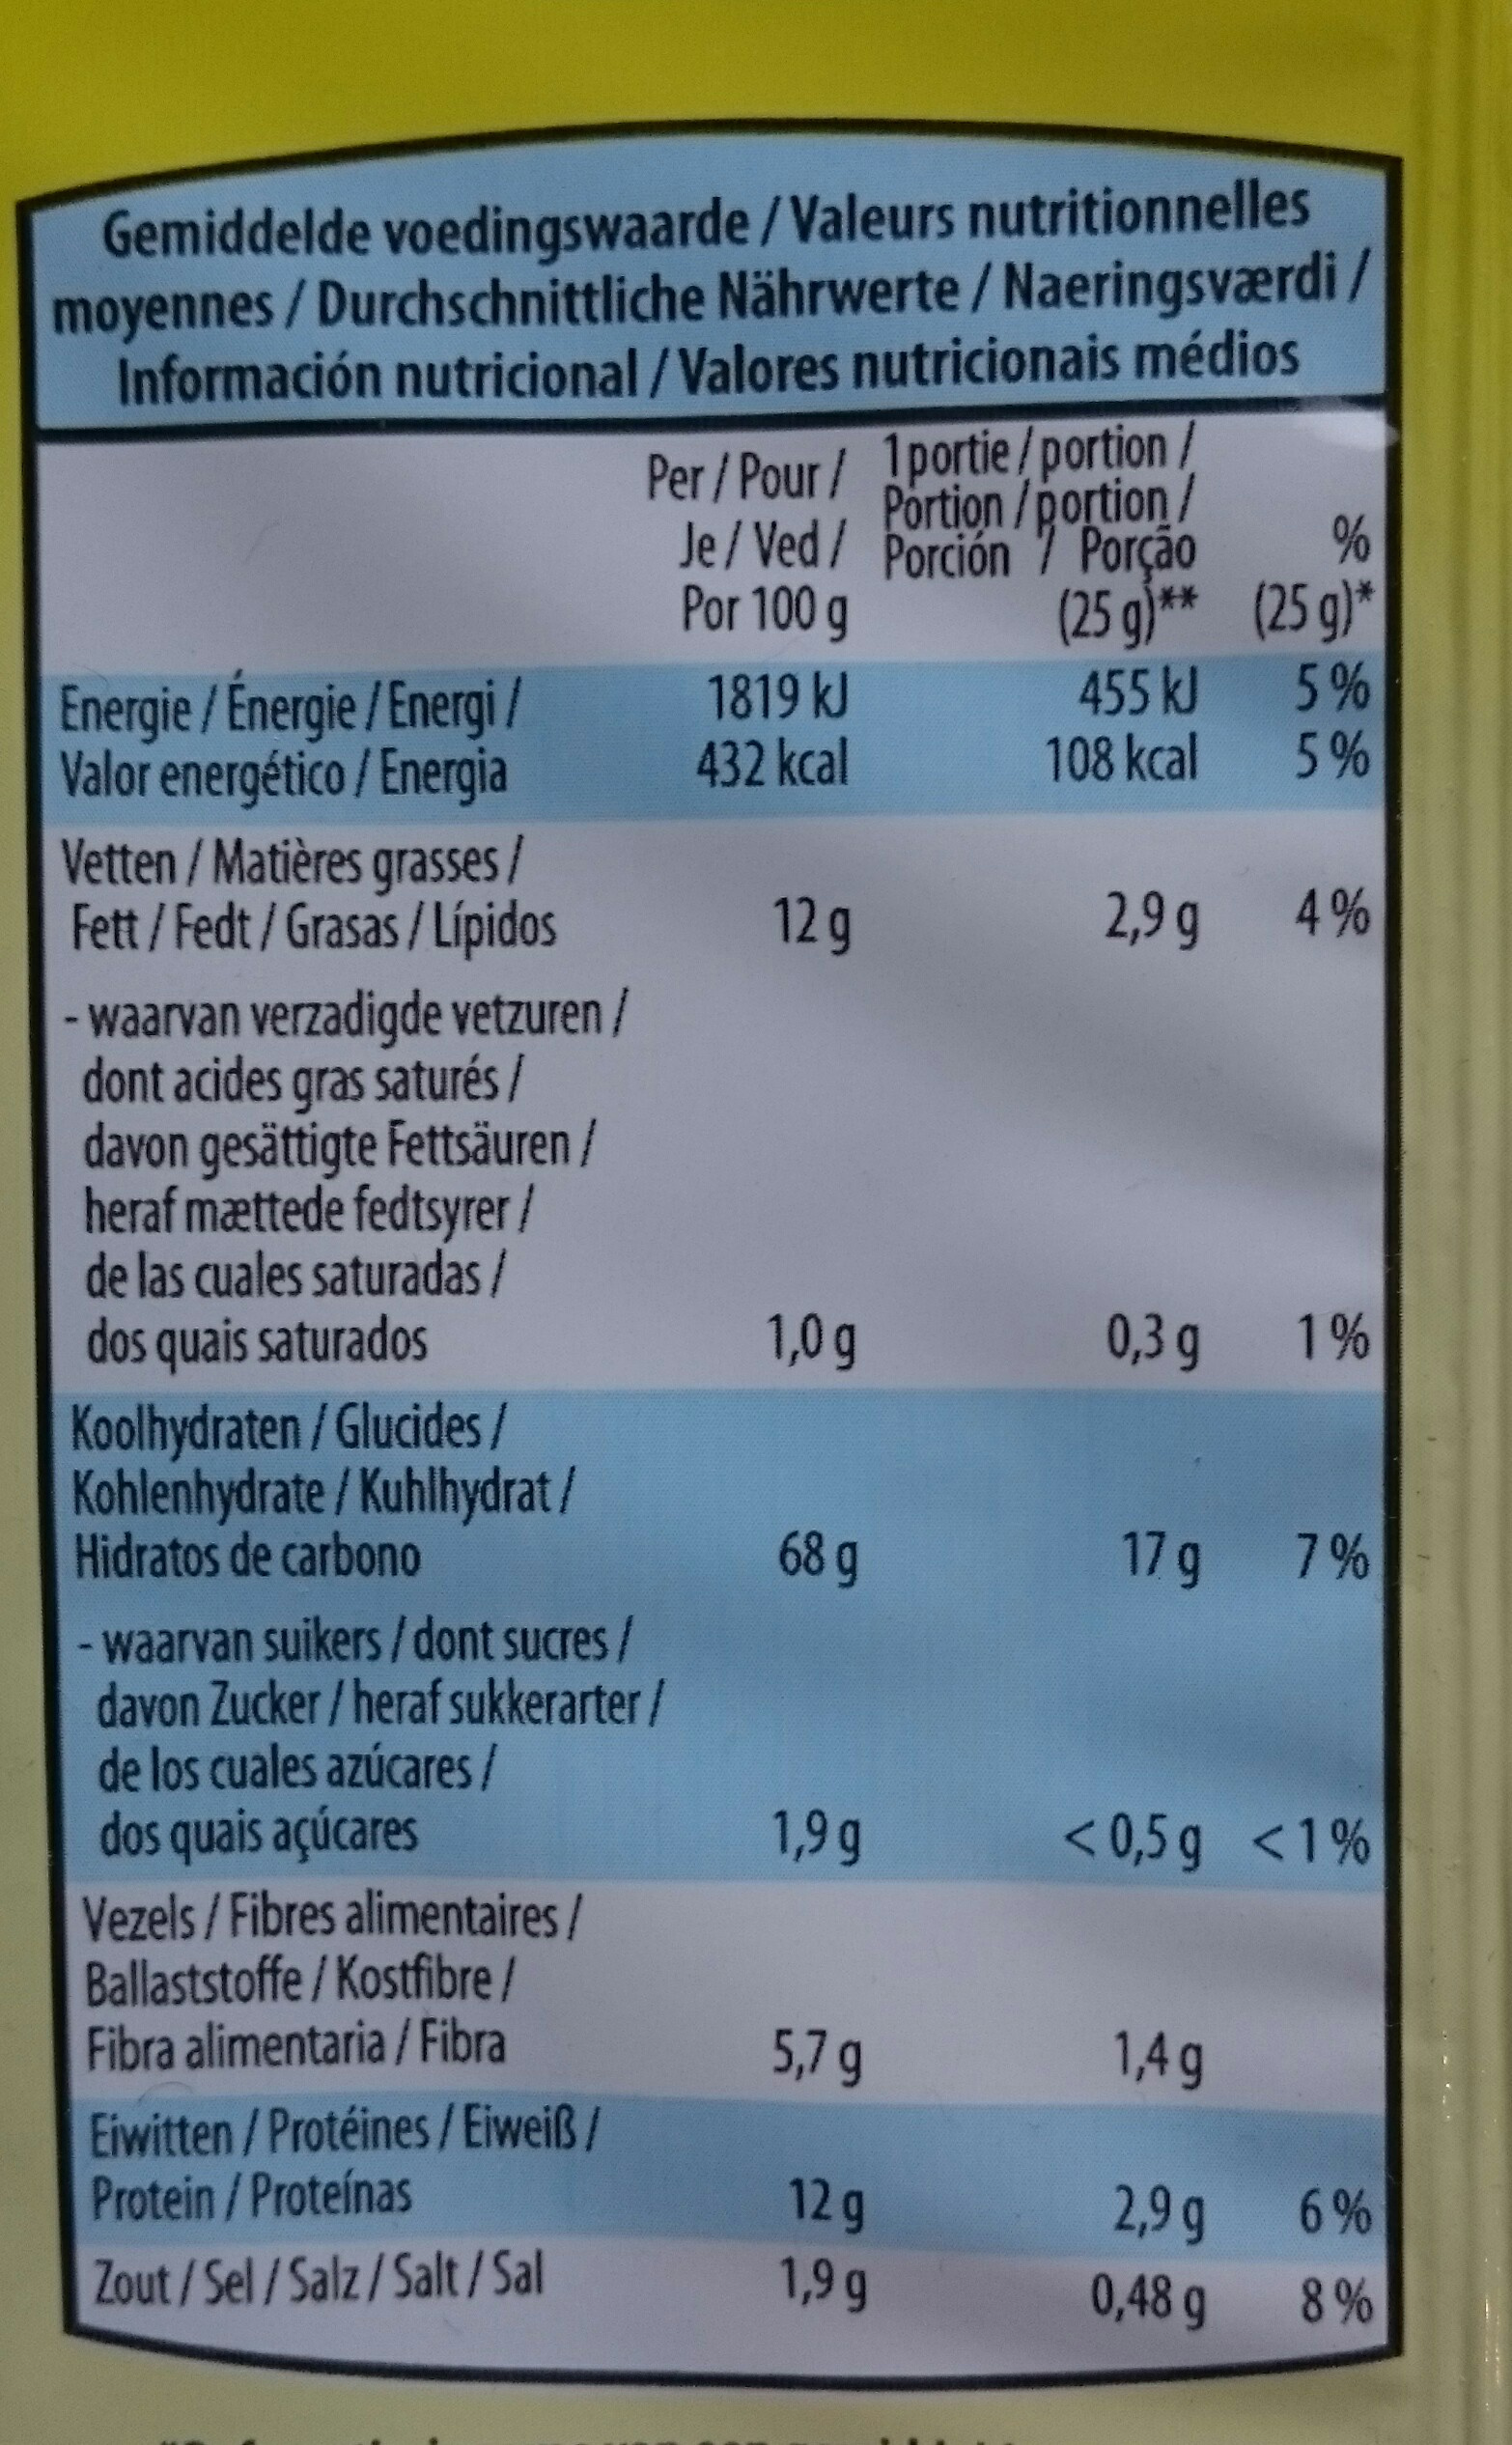column: (59, 667, 663, 2400), (882, 414, 1206, 2396), (677, 451, 869, 2323), (1247, 407, 1378, 2393)
table: (10, 121, 1411, 2396)
